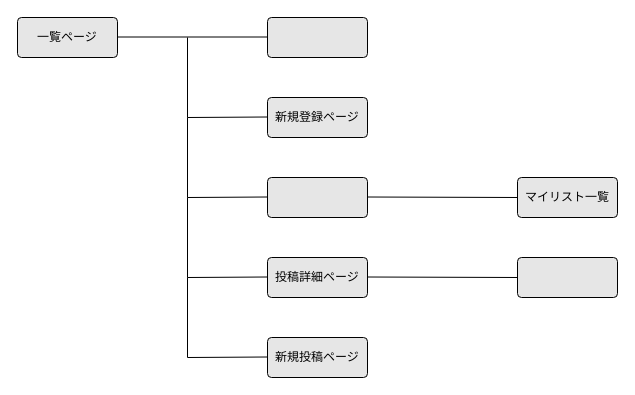
This 635x395 diagram has some shape labels left out. Here are the shapes that lost their labels. From the top down, the centre of each, then its label:
At (x=317, y=37): "ログインページ".
At (x=317, y=197): "マイページ".
At (x=567, y=277): "投稿編集ページ".
